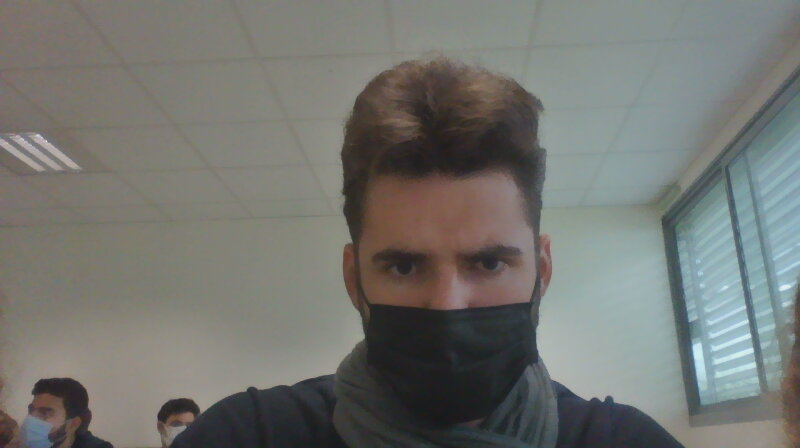with_mask: (348, 181, 550, 423)
